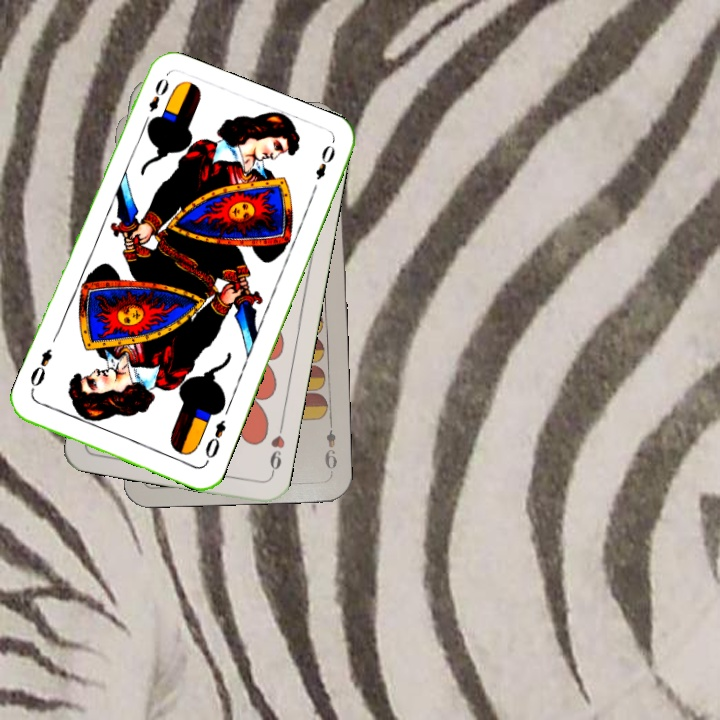E9: (320, 416, 339, 472)
EO: (201, 415, 229, 461), (144, 74, 171, 115)
H9: (266, 420, 288, 479)
